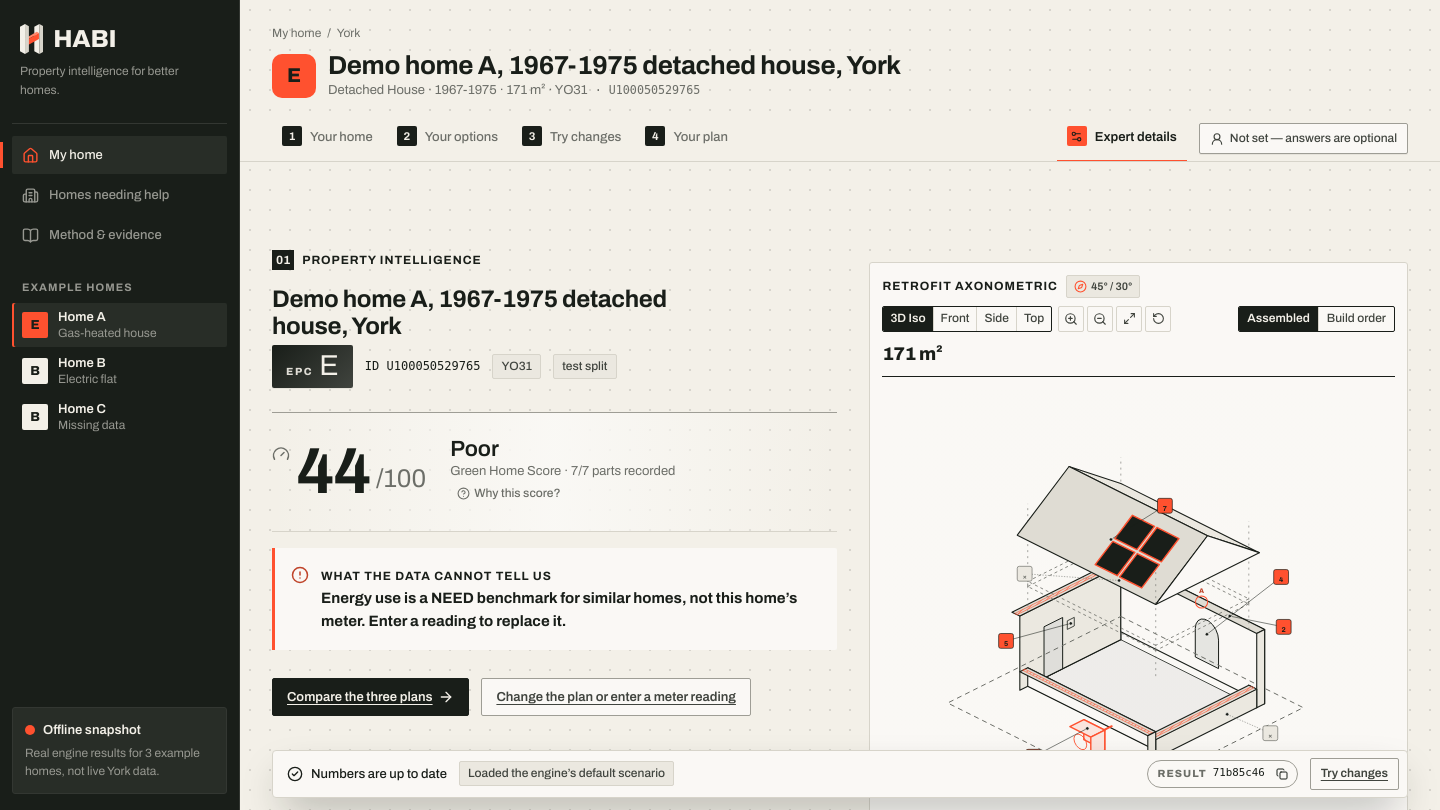
Test case: My Home: demo home A (Poor gas house) › opens “Why this number?” with inputs, provenance and the scenario id
Click the button "Why this score?" at (509, 493), box [450,481,568,506]
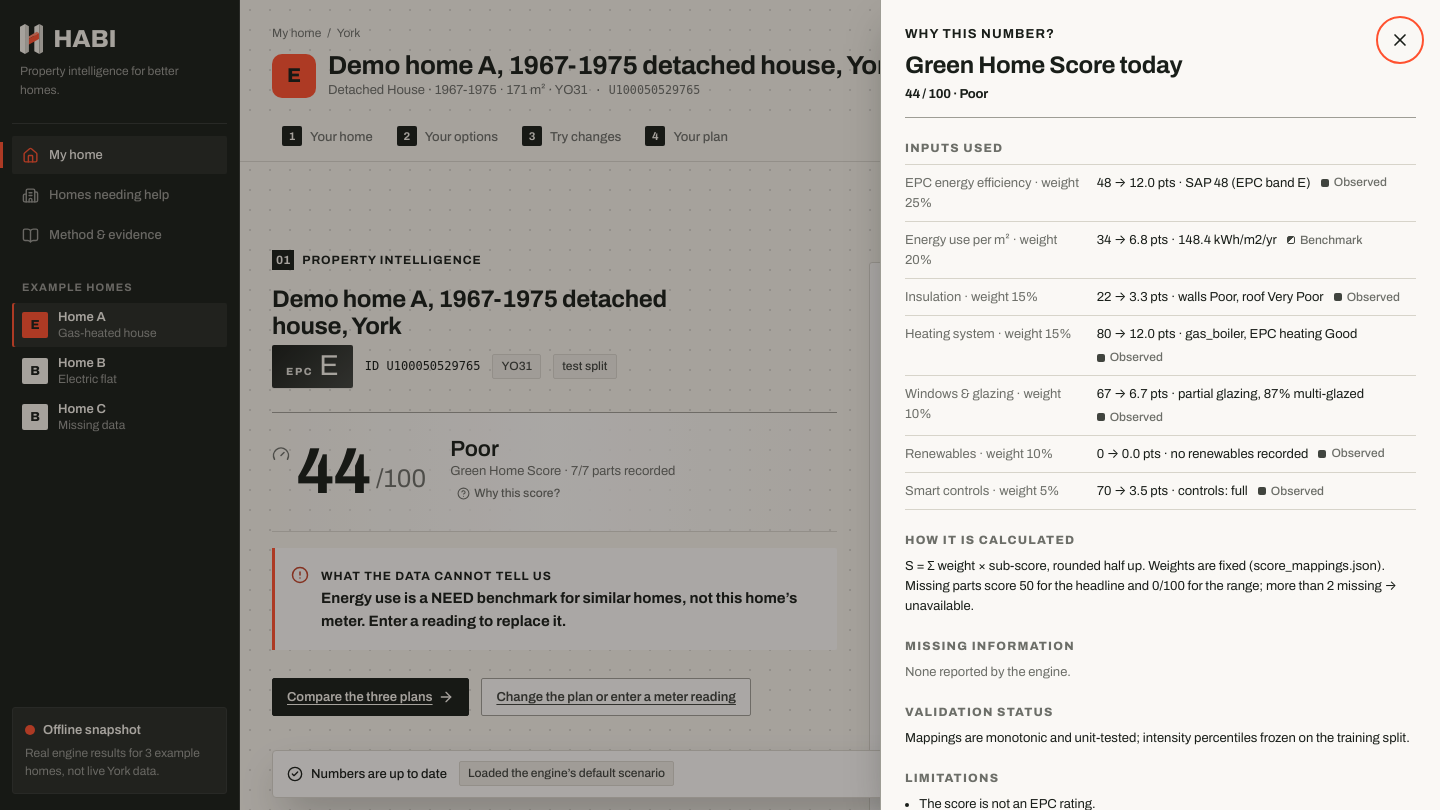
expect the heading "Inputs used" is shown: met, box [905,141,1003,155]
expect the heading "Validation status" is shown: met, box [905,705,1054,719]
expect the text "Observed" is shown: met, box [1321,173,1387,192]
